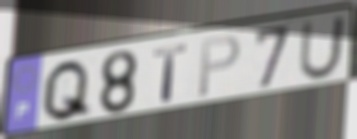7: (253, 23, 292, 92)
8: (99, 49, 140, 116)
P: (196, 33, 243, 101)
Q: (39, 58, 93, 125)
T: (152, 42, 190, 105)
U: (297, 13, 348, 82)
